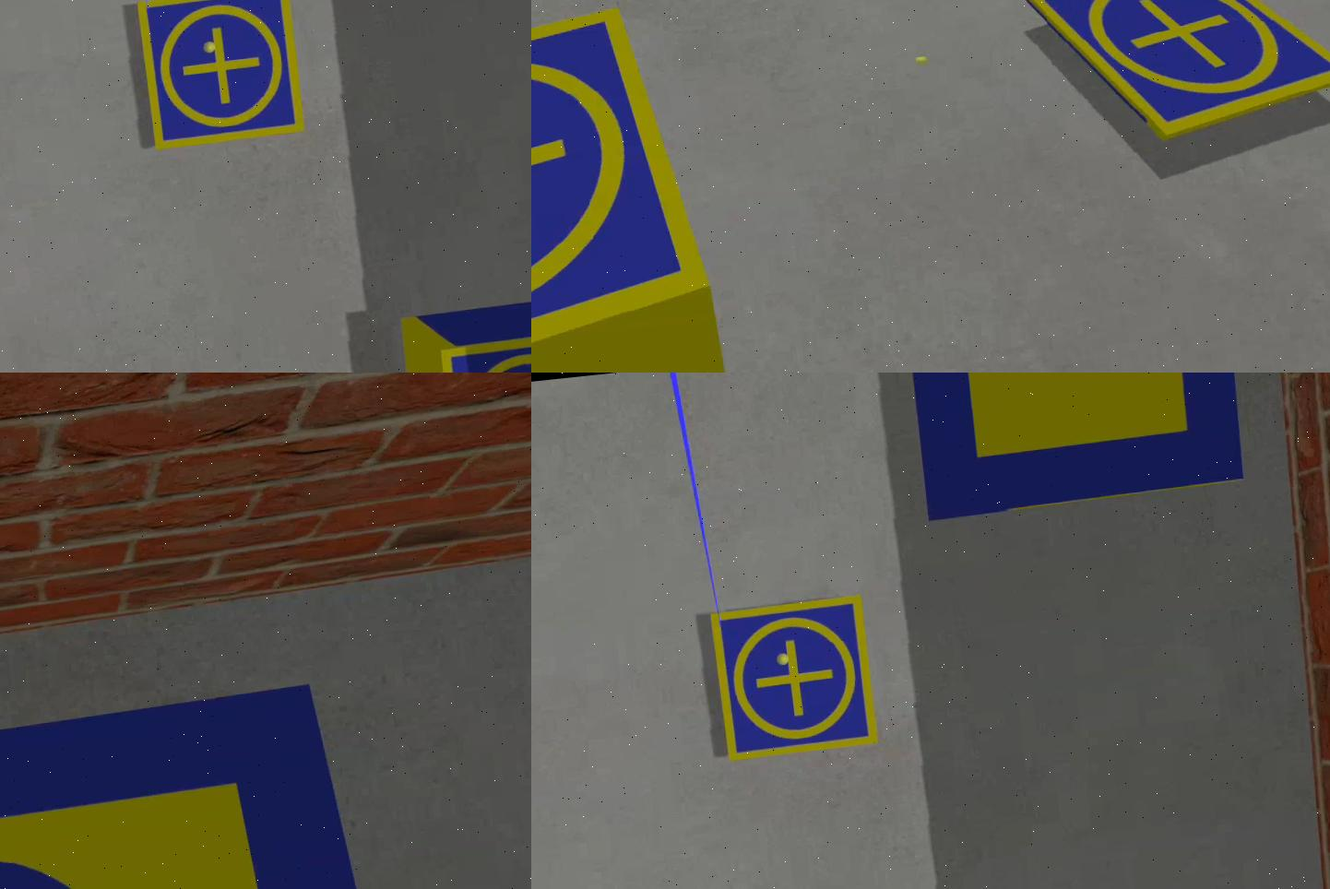large_base: (1, 679, 415, 889), (902, 373, 1247, 525)
small_base: (532, 2, 726, 373), (1027, 1, 1330, 152), (709, 595, 882, 765), (137, 1, 305, 155)
